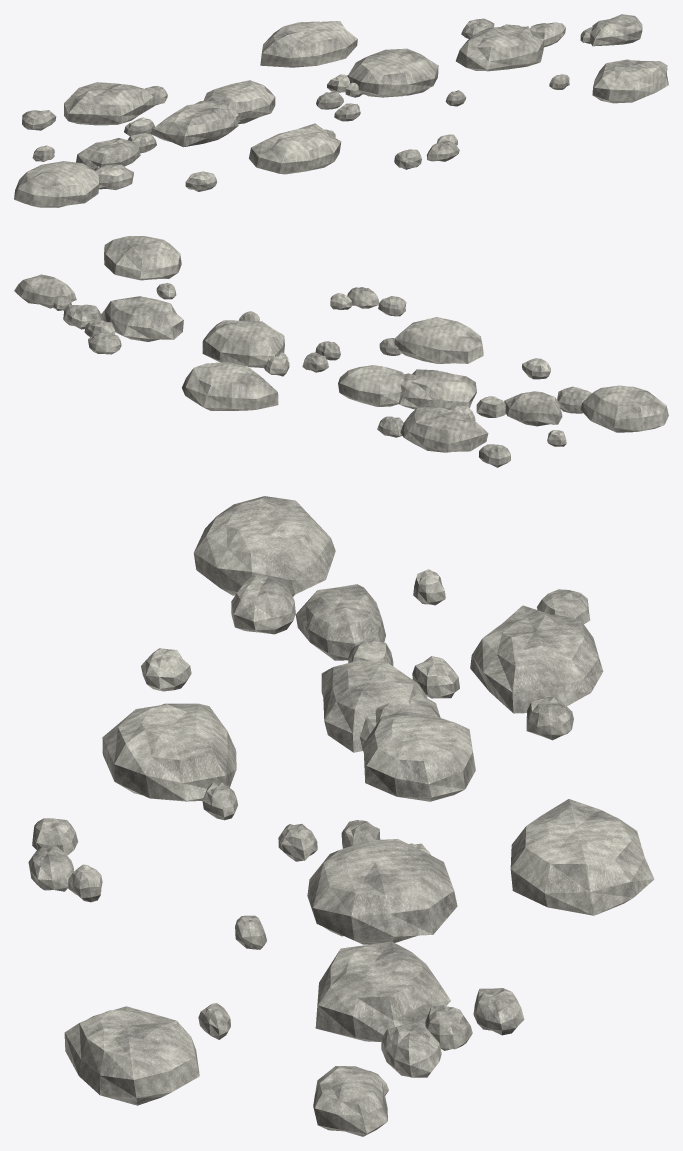
File: valley-gravel-bar.obj
The picture shows the model from 3 angles, top to bottom: view 1: azimuth 30°, elevation 25°; view 2: azimuth 150°, elevation 25°; view 3: azimuth 270°, elevation 25°; orthographic projection. The views are drawn at different scales.
Size of the model in its own units: 4.5 by 0.2072 by 1.94.
4 materials, 4 textured.
